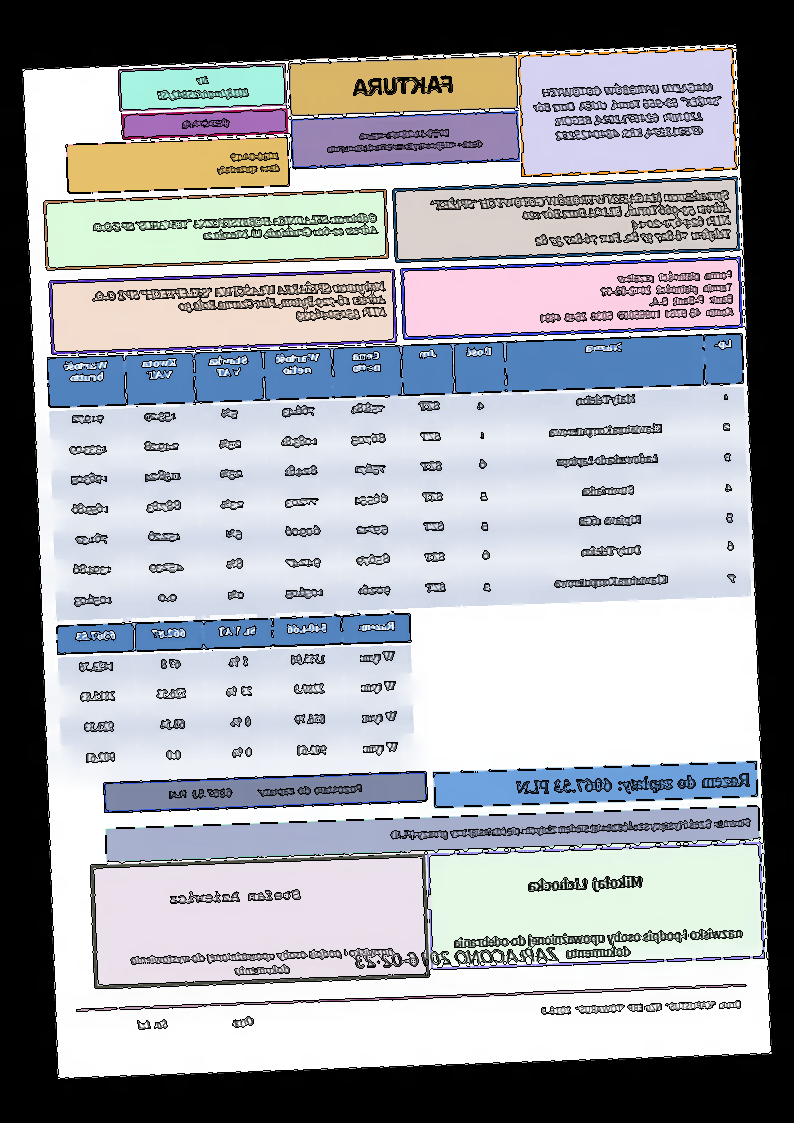Table: (45, 331, 753, 623), (56, 612, 418, 778)
TextBox: (427, 184, 734, 255), (89, 276, 389, 331), (531, 78, 725, 145), (536, 266, 736, 326), (91, 209, 381, 247), (390, 813, 753, 843), (454, 927, 747, 964), (129, 942, 395, 981), (513, 768, 754, 800), (349, 944, 559, 975), (324, 124, 486, 157), (539, 995, 745, 1019), (167, 781, 365, 803), (525, 869, 645, 895), (156, 73, 252, 105), (167, 886, 303, 908), (349, 74, 456, 99), (214, 147, 284, 181), (134, 1013, 257, 1031), (179, 115, 232, 133)
